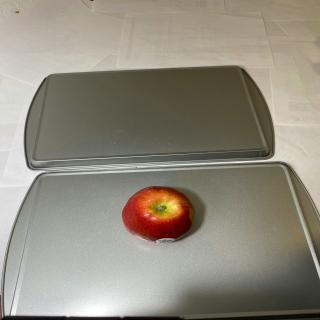Apple: (121, 186, 196, 243)
